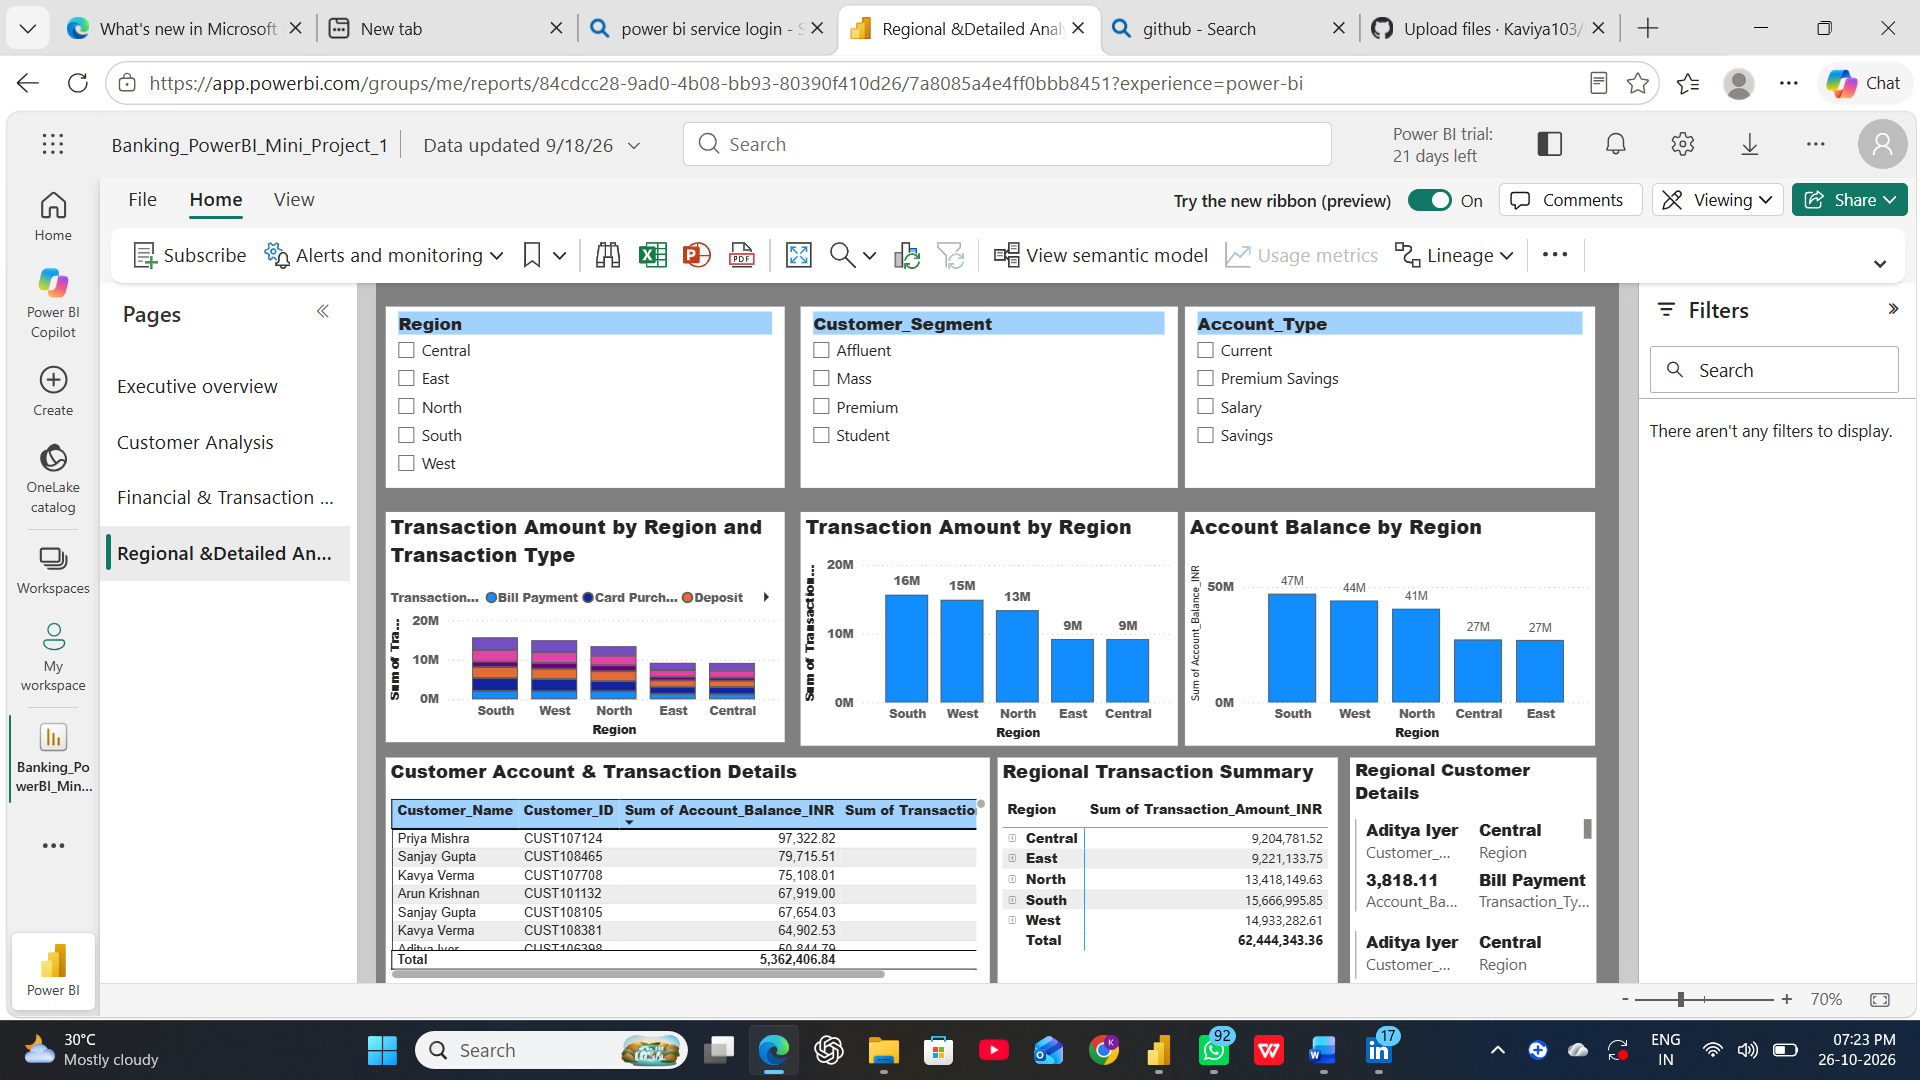

Layout of this report page (visuals, bound fields, positions):
{"tool":"powerbi","page":{"name":"Regional &Detailed Analysis","canvas":[1280,720],"ordinal":3},"visuals":[{"type":"slicer","fields":{"Values":["Banking_Customer_Insights_Dataset-1.Region"]},"box":[9.8,24.6,411,186.7],"z":0},{"type":"slicer","fields":{"Values":["Banking_Customer_Insights_Dataset-1.Customer_Segment"]},"box":[437.3,24.6,388.1,186.7],"z":1000},{"type":"slicer","fields":{"Values":["Banking_Customer_Insights_Dataset-1.Account_Type"]},"box":[833.6,24.6,422.5,186.7],"z":2000},{"type":"clusteredColumnChart","title":"Transaction Amount by Region","fields":{"Category":["Banking_Customer_Insights_Dataset-1.Region"],"Y":["Sum(Banking_Customer_Insights_Dataset-1.Transaction_Amount_INR)"]},"box":[437.3,235.8,388.1,240.7],"z":3000},{"type":"clusteredColumnChart","title":"Account Balance by Region","fields":{"Category":["Banking_Customer_Insights_Dataset-1.Region"],"Y":["Sum(Banking_Customer_Insights_Dataset-1.Account_Balance_INR)"]},"box":[833.6,235.8,422.5,240.7],"z":4000},{"type":"columnChart","title":"Transaction Amount by Region and Transaction Type","fields":{"Category":["Banking_Customer_Insights_Dataset-1.Region"],"Series":["Banking_Customer_Insights_Dataset-1.Transaction_Type"],"Y":["Sum(Banking_Customer_Insights_Dataset-1.Transaction_Amount_INR)"]},"box":[9.8,235.8,411,237.5],"z":5000},{"type":"tableEx","title":"Customer Account & Transaction Details","fields":{"Values":["Banking_Customer_Insights_Dataset-1.Customer_Name","Banking_Customer_Insights_Dataset-1.Customer_ID","Sum(Banking_Customer_Insights_Dataset-1.Account_Balance_INR)","Sum(Banking_Customer_Insights_Dataset-1.Transaction_Amount_INR)"]},"box":[9.8,488,622.3,232.5],"z":6000},{"type":"pivotTable","title":"Regional Transaction Summary","fields":{"Rows":["Banking_Customer_Insights_Dataset-1.Region","Banking_Customer_Insights_Dataset-1.Branch","Banking_Customer_Insights_Dataset-1.Customer_Segment"],"Values":["Sum(Banking_Customer_Insights_Dataset-1.Transaction_Amount_INR)"]},"box":[640.3,488,350.5,232.5],"z":7000},{"type":"multiRowCard","title":"Regional Customer Details","fields":{"Values":["Banking_Customer_Insights_Dataset-1.Customer_Name","Banking_Customer_Insights_Dataset-1.Region","Banking_Customer_Insights_Dataset-1.Account_Balance_INR","Banking_Customer_Insights_Dataset-1.Transaction_Type"]},"box":[1002.2,488,253.8,232.5],"z":8000}]}

Visuals, with their boxes on the page's 1280x720 design canvas (x1, y1, x2, y2). These are canvas units, not pixel positions in the 1920x1080 screenshot, which may show the page scaled, cropped or inside an application window:
slicer - Banking_Customer_Insights_Dataset-1.Region: bbox(10, 25, 421, 211)
slicer - Banking_Customer_Insights_Dataset-1.Customer_Segment: bbox(437, 25, 825, 211)
slicer - Banking_Customer_Insights_Dataset-1.Account_Type: bbox(834, 25, 1256, 211)
"Transaction Amount by Region" clusteredColumnChart: bbox(437, 236, 825, 476)
"Account Balance by Region" clusteredColumnChart: bbox(834, 236, 1256, 476)
"Transaction Amount by Region and Transaction Type" columnChart: bbox(10, 236, 421, 473)
"Customer Account & Transaction Details" tableEx: bbox(10, 488, 632, 720)
"Regional Transaction Summary" pivotTable: bbox(640, 488, 991, 720)
"Regional Customer Details" multiRowCard: bbox(1002, 488, 1256, 720)
